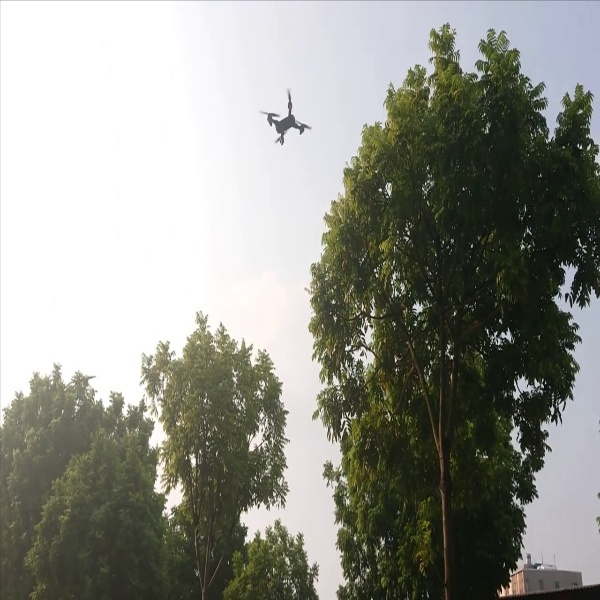drone: (247, 86, 318, 148)
